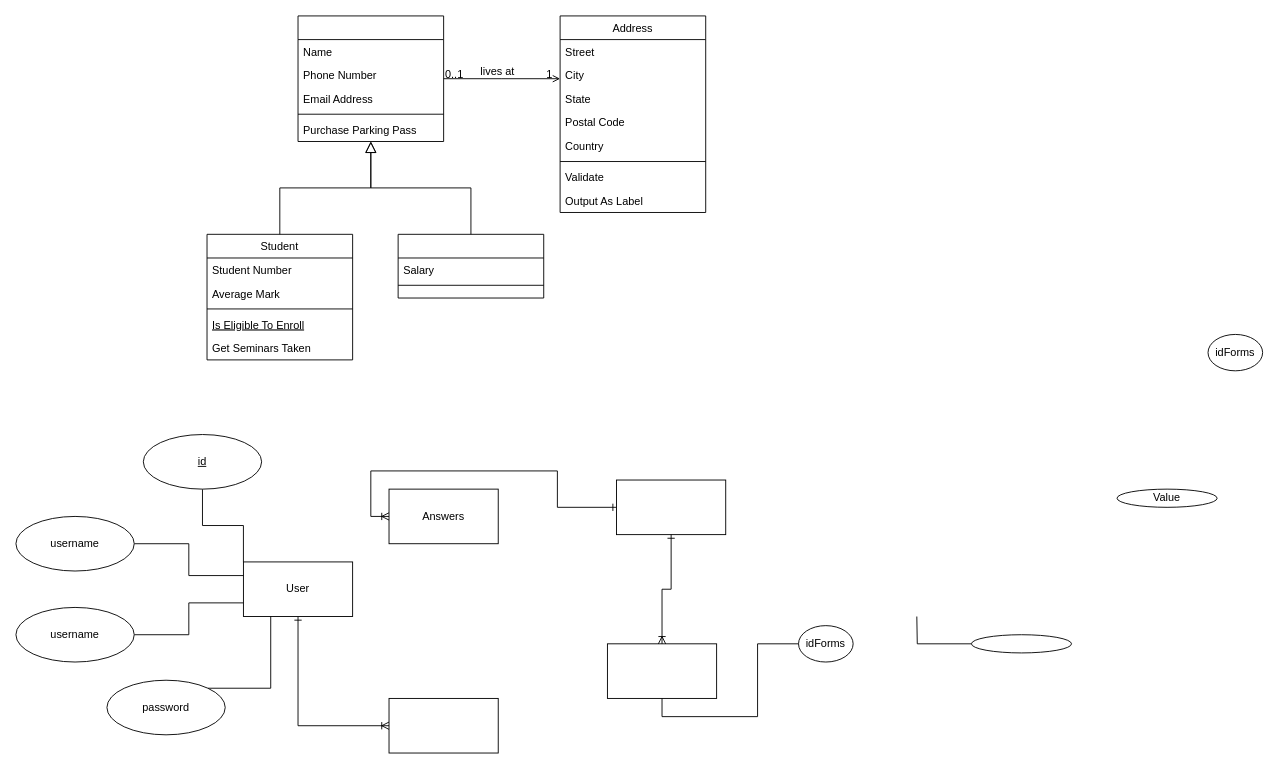
Image size: 1279x769. Some labels were removed from this diagram. Here are the shapes that lost their labels. From the top down, the box of each, then its label:
(297, 15, 444, 142): rern
(397, 233, 544, 298): Professor
(616, 479, 726, 535): Forms
(971, 634, 1072, 653): Enouncement
(607, 643, 717, 698): Questions
(388, 698, 498, 753): Entrevista
